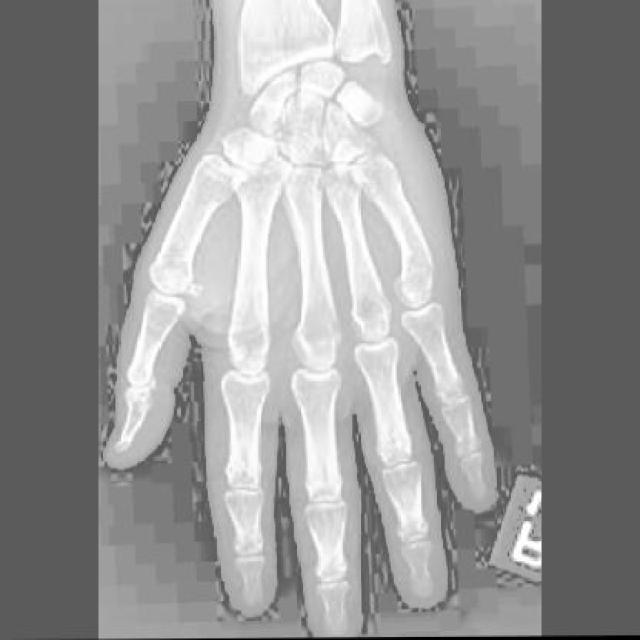Fracture: (396, 251, 436, 287)
